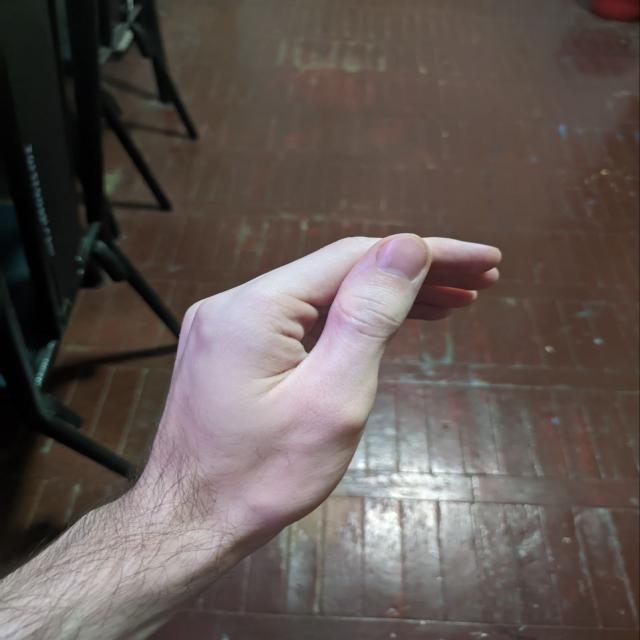f: (158, 213, 534, 525)
